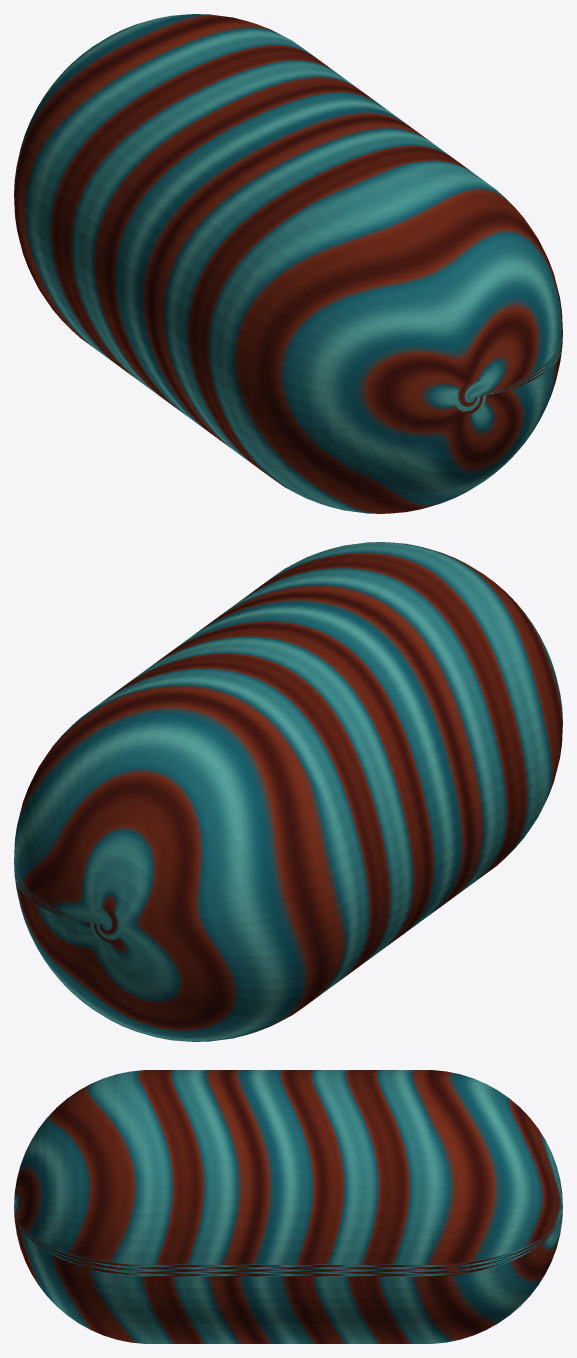
File: capsule-ocean-c2.glb
The picture shows the model from 3 angles, top to bottom: view 1: azimuth 30°, elevation 25°; view 2: azimuth 150°, elevation 25°; view 3: azimuth 270°, elevation 25°; orthographic projection. The views are drawn at different scales.
Parts seen in each view (by area): view 1: world; view 2: world; view 3: world.
Boxes of the visible parts, <box> form: world: <box>14,14,562,513</box>; world: <box>14,542,562,1041</box>; world: <box>14,1070,562,1343</box>.
Bounding box in the file's own units: 0.6991 × 0.6991 × 1.4.
Materials: 1 (1 with a texture image).
